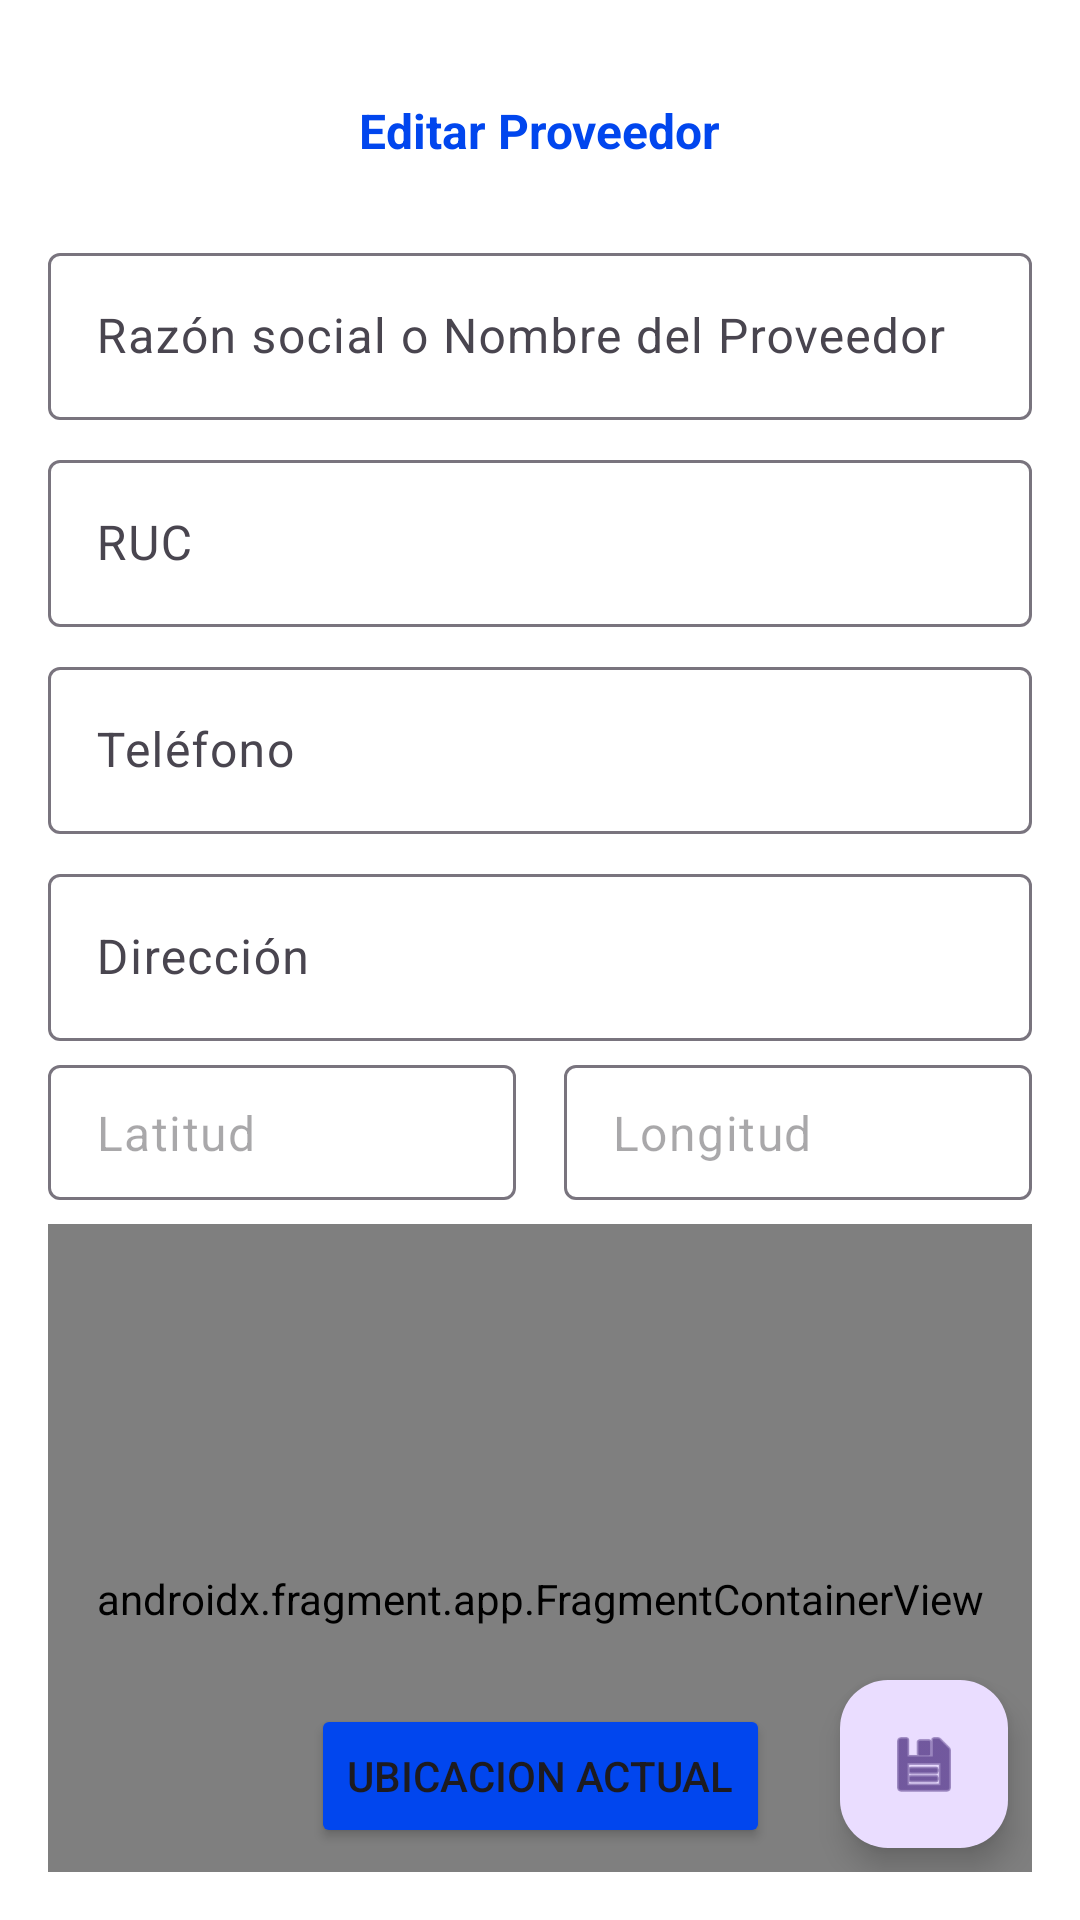

Icons on this 1080*1920 Android screen, each with the point to tap as (x,y):
Actualizar Proveedor: (924,1764)
